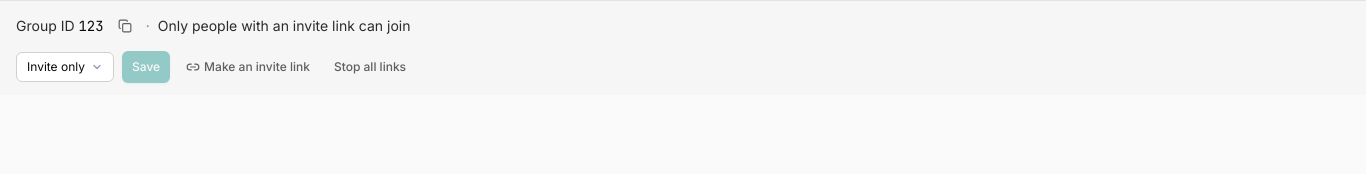
Scenario: GroupSharePanel › makes an invite link and stops them all
Expected: the text with test id "group-share-id" reads "123", left=78, top=17, right=104, bottom=35
Click the button with test id "group-share-link" at (248, 67), box left=178, top=53, right=318, bottom=81
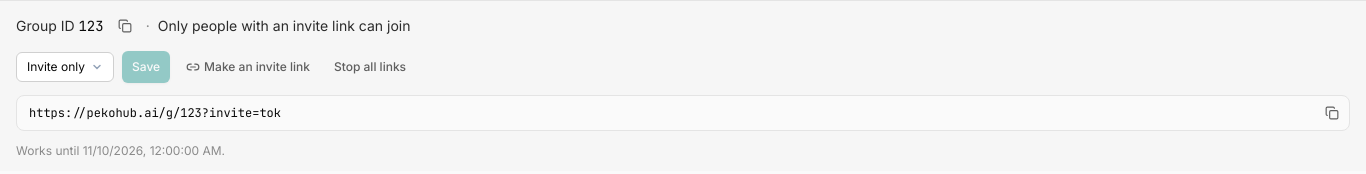
Expected: the text with test id "group-share-link-value" reads "https://pekohub.ai/g/123?invite=tok", left=29, top=105, right=281, bottom=121
Click the button with test id "group-share-revoke" at (370, 67), box left=326, top=53, right=414, bottom=81
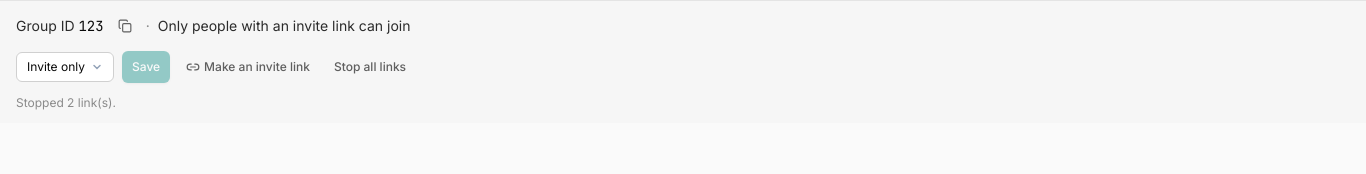
Expected: the text with test id "group-share-revoked" reads "Stopped 2 link(s).", left=16, top=95, right=116, bottom=110
